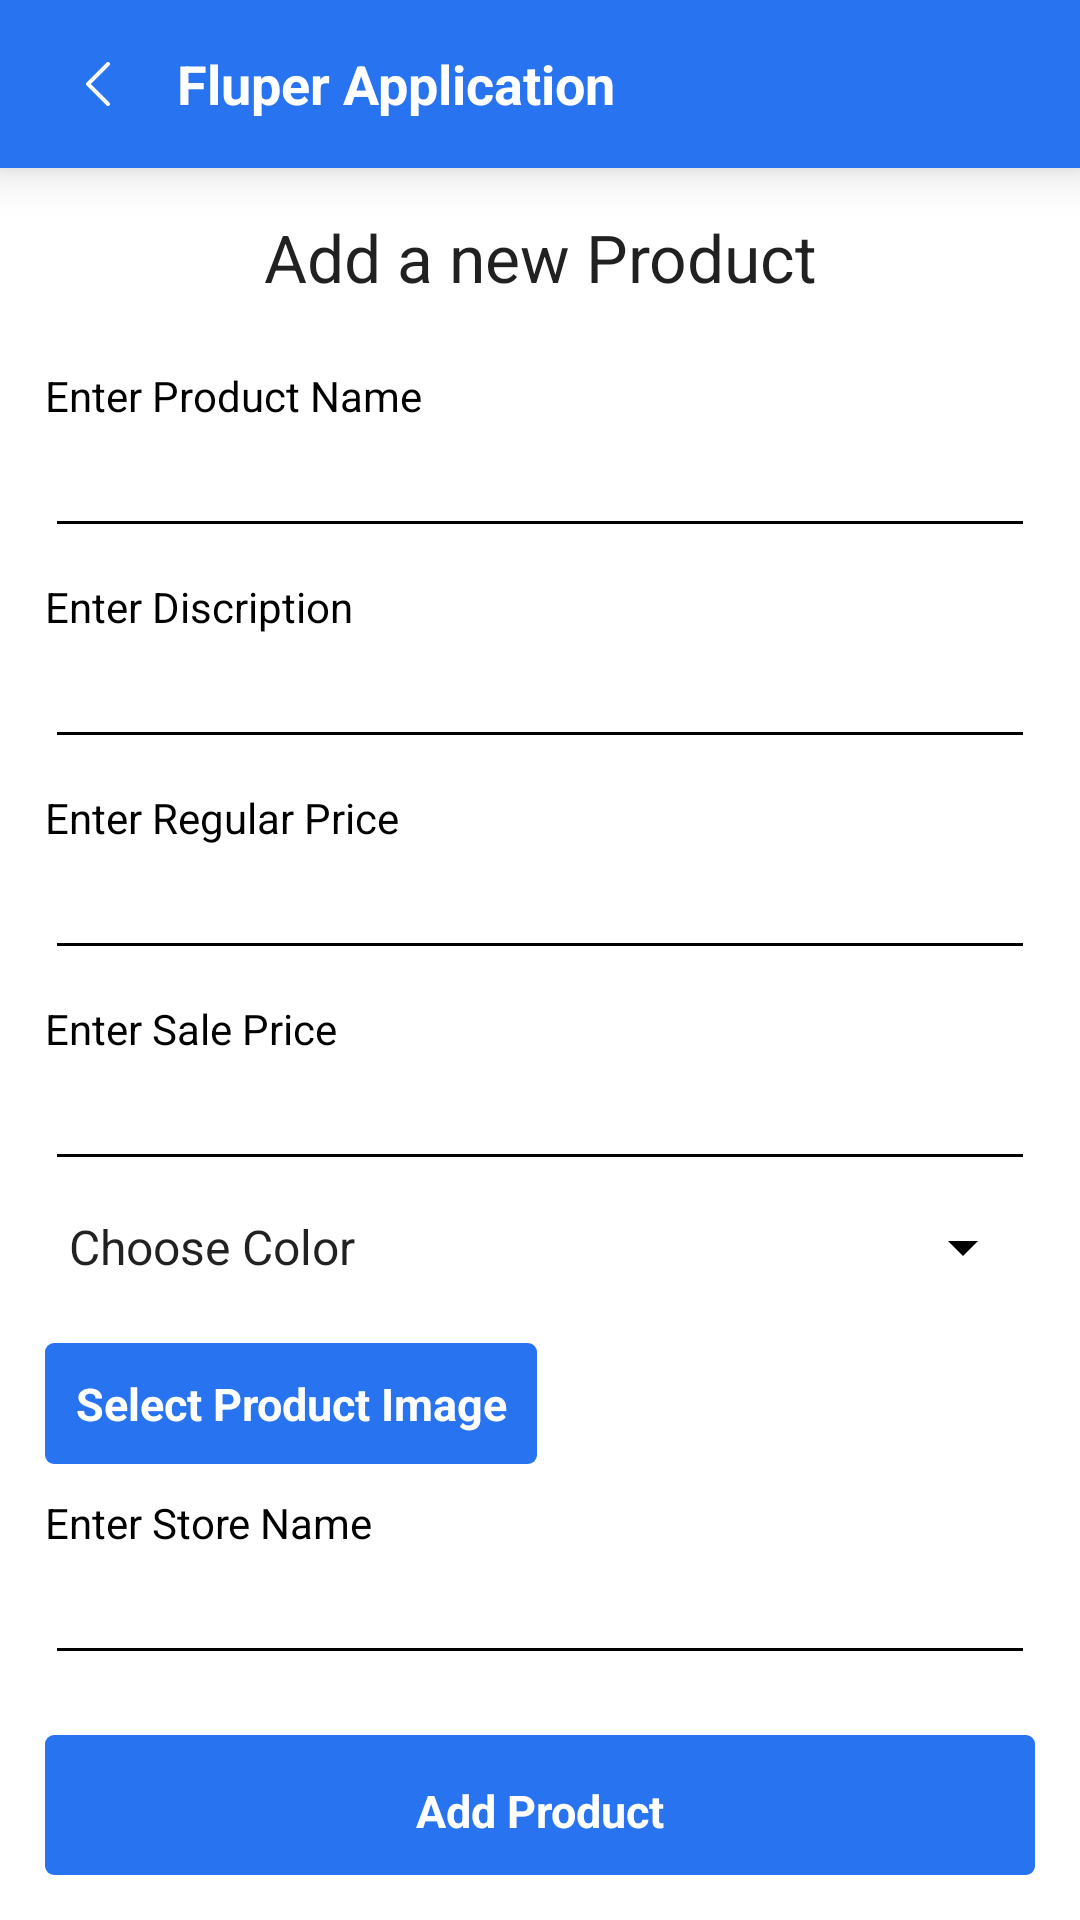

Screen size 1080 x 1920. Icon name, then its box in pixels as box=[x1, y1, x2, y2]:
back: box=[86, 62, 110, 106]
